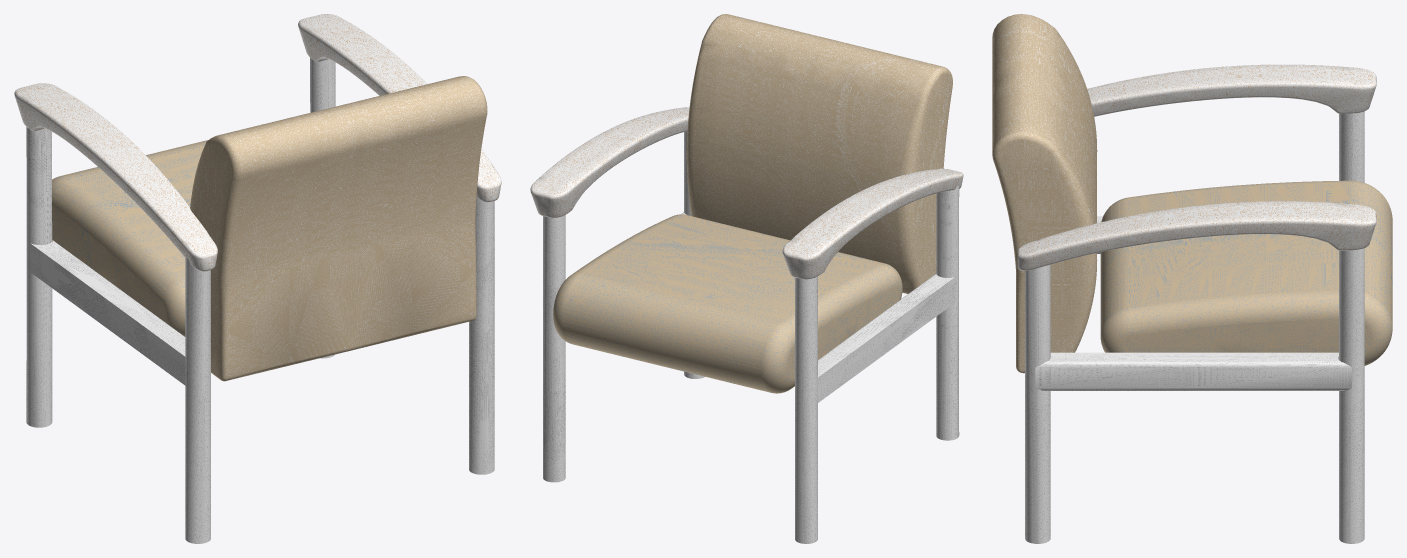
3 views of the same model, side by side, from view 1: azimuth 30°, elevation 25°; view 2: azimuth 150°, elevation 25°; view 3: azimuth 270°, elevation 25° (orthographic). The views are drawn at different scales.
Parts seen in each view (by area): view 1: mesh2_mesh2-geometry, mesh1_mesh1-geometry, mesh6_mesh6-geometry, mesh8_mesh8-geometry, mesh4_mesh4-geometry, mesh3_mesh3-geometry, mesh5_mesh5-geometry; view 2: mesh2_mesh2-geometry, mesh1_mesh1-geometry, mesh8_mesh8-geometry, mesh7_mesh7-geometry, mesh6_mesh6-geometry, mesh3_mesh3-geometry, mesh5_mesh5-geometry, mesh4_mesh4-geometry; view 3: mesh7_mesh7-geometry, mesh6_mesh6-geometry, mesh1_mesh1-geometry, mesh5_mesh5-geometry, mesh3_mesh3-geometry, mesh8_mesh8-geometry, mesh4_mesh4-geometry, mesh2_mesh2-geometry.
Boxes of the visible parts, bbox=[...] form: mesh2_mesh2-geometry: bbox=[190, 106, 362, 381]; mesh1_mesh1-geometry: bbox=[339, 76, 487, 350]; mesh6_mesh6-geometry: bbox=[14, 14, 501, 271]; mesh8_mesh8-geometry: bbox=[52, 148, 197, 336]; mesh4_mesh4-geometry: bbox=[185, 198, 494, 543]; mesh3_mesh3-geometry: bbox=[26, 57, 335, 427]; mesh5_mesh5-geometry: bbox=[30, 240, 494, 385]; mesh2_mesh2-geometry: bbox=[795, 40, 952, 293]; mesh1_mesh1-geometry: bbox=[686, 14, 835, 240]; mesh8_mesh8-geometry: bbox=[662, 239, 902, 393]; mesh7_mesh7-geometry: bbox=[553, 214, 783, 368]; mesh6_mesh6-geometry: bbox=[530, 107, 963, 279]; mesh3_mesh3-geometry: bbox=[543, 215, 817, 543]; mesh5_mesh5-geometry: bbox=[565, 212, 955, 402]; mesh4_mesh4-geometry: bbox=[684, 131, 959, 440]; mesh7_mesh7-geometry: bbox=[1100, 237, 1392, 365]; mesh6_mesh6-geometry: bbox=[1017, 64, 1376, 270]; mesh1_mesh1-geometry: bbox=[992, 72, 1097, 373]; mesh5_mesh5-geometry: bbox=[1035, 216, 1351, 390]; mesh3_mesh3-geometry: bbox=[1339, 111, 1364, 543]; mesh8_mesh8-geometry: bbox=[1100, 180, 1392, 278]; mesh4_mesh4-geometry: bbox=[1025, 264, 1050, 543]; mesh2_mesh2-geometry: bbox=[992, 14, 1097, 193].
Bounding box in the file's own units: 0.5298 × 0.6261 × 0.5721.
